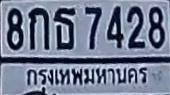2: (127, 5, 144, 48)
4: (106, 5, 123, 47)
7: (84, 6, 101, 48)
8: (6, 7, 22, 49), (148, 6, 164, 48)
A01: (28, 7, 48, 49)
A24: (53, 7, 75, 49)
BKK: (25, 66, 150, 92)
